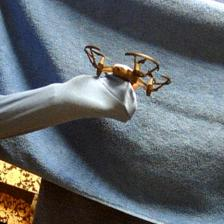drone: (82, 42, 174, 93)
